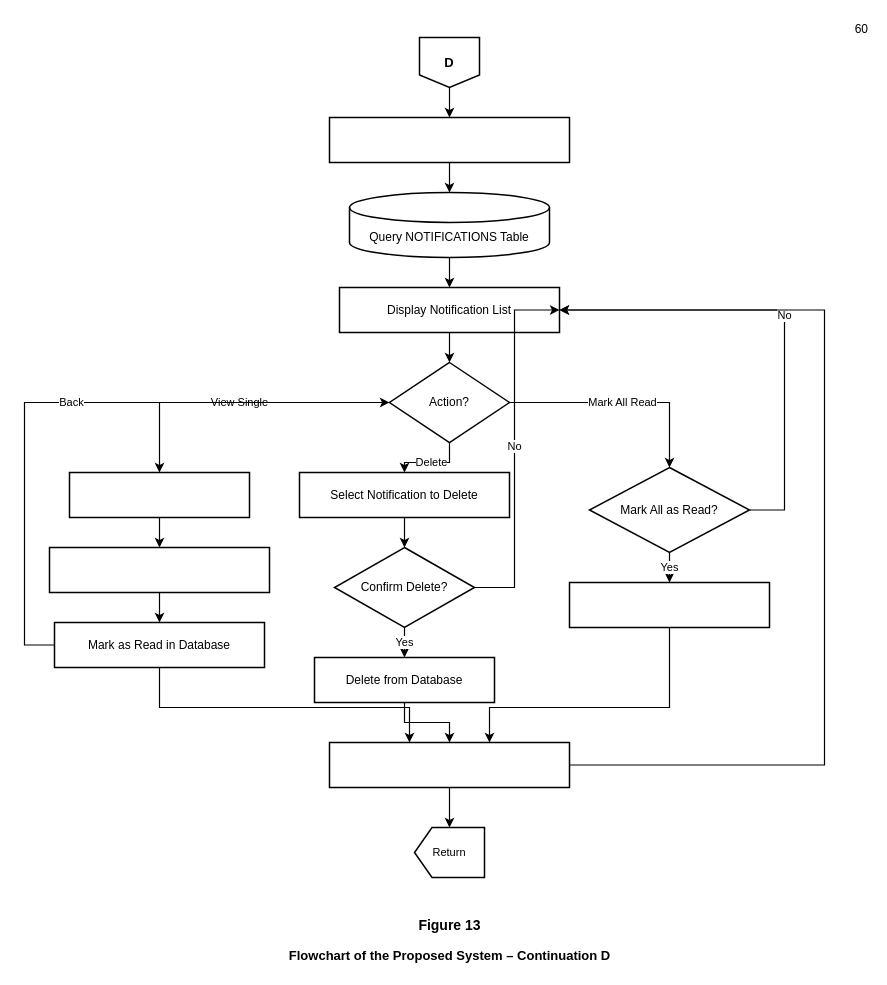
Image size: 887x985. Some labels were removed from this diagram. Each missing label, with the box of its shape:
Refresh Notification List: (328, 741, 570, 788)
Retrieve User Notifications: (328, 116, 570, 163)
Select a Notification: (68, 471, 250, 518)
Update All to Read Status: (568, 581, 770, 628)
View Full Message Content: (48, 546, 270, 593)
